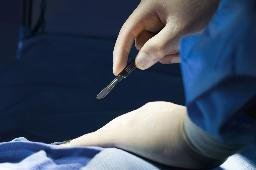scalpel: (96, 56, 138, 99)
